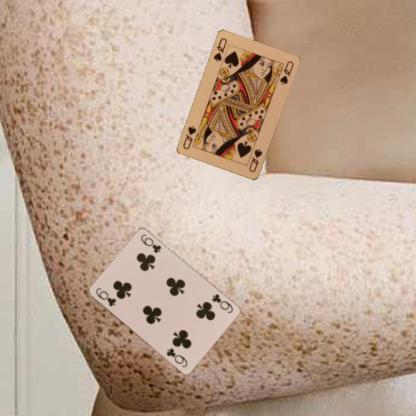6c: (209, 292, 234, 314), (93, 285, 117, 307)
Qs: (246, 146, 264, 174), (211, 35, 228, 63)
